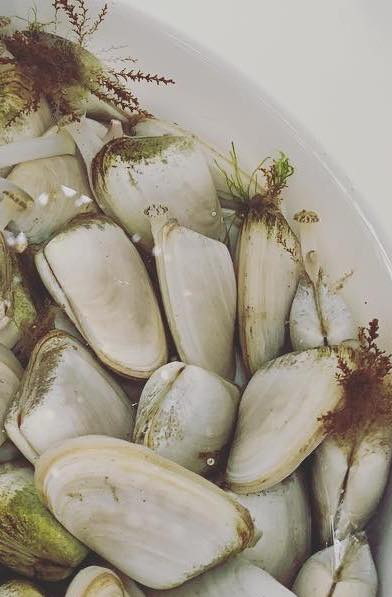tuatua: (32, 430, 257, 589), (29, 210, 171, 378), (223, 343, 351, 500), (4, 327, 135, 458), (89, 133, 232, 252), (154, 217, 238, 383), (135, 356, 244, 477), (232, 189, 296, 378), (311, 417, 391, 551)
